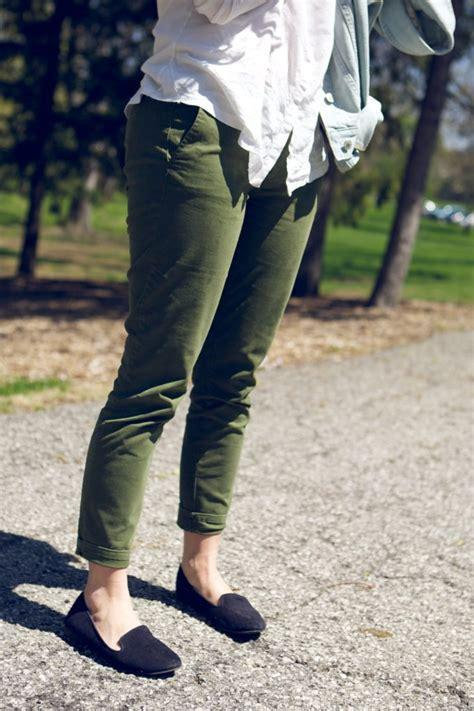pants: (76, 90, 318, 569)
